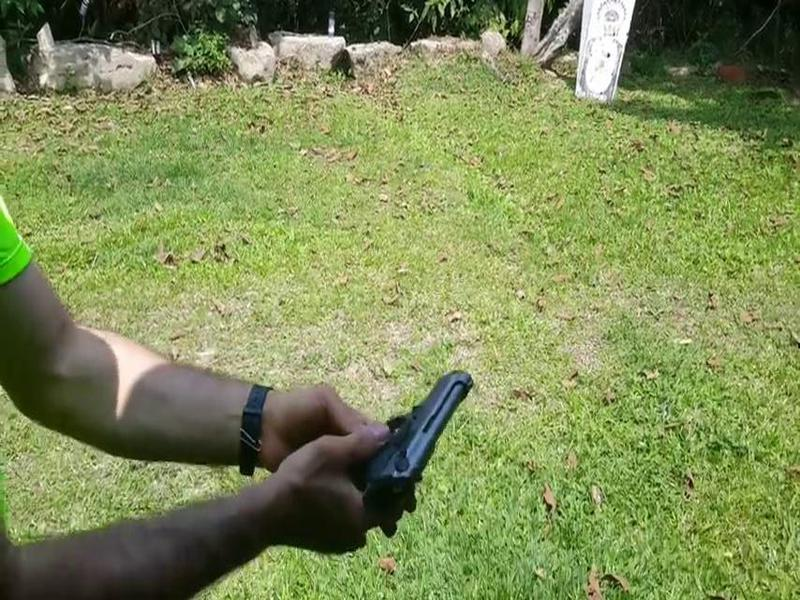Pistola: (377, 354, 486, 495)
